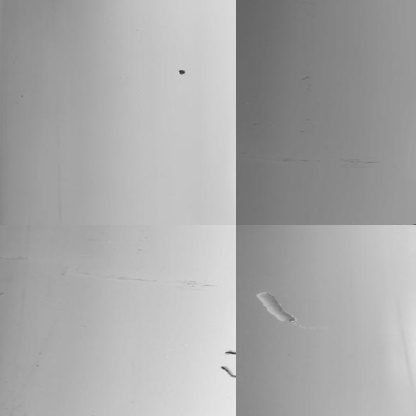fengxi: (220, 362, 235, 381), (222, 344, 236, 358)
kongdong: (176, 67, 185, 74)
sunshang: (255, 287, 297, 328)
